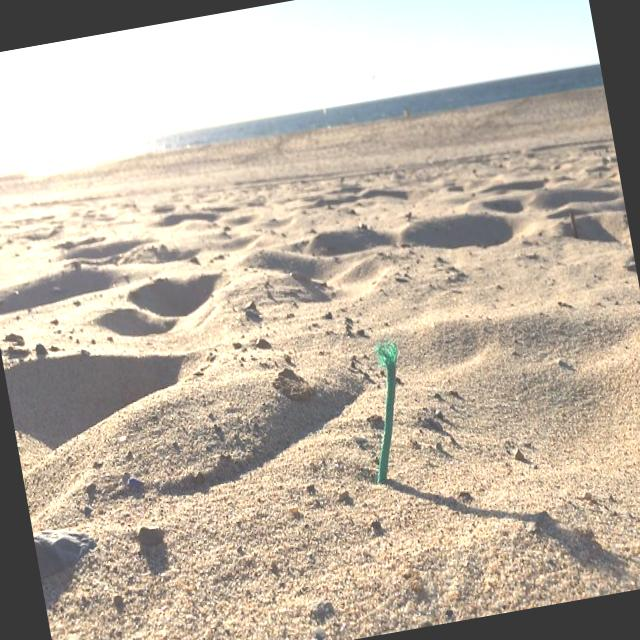Trash: (351, 340, 423, 492)
